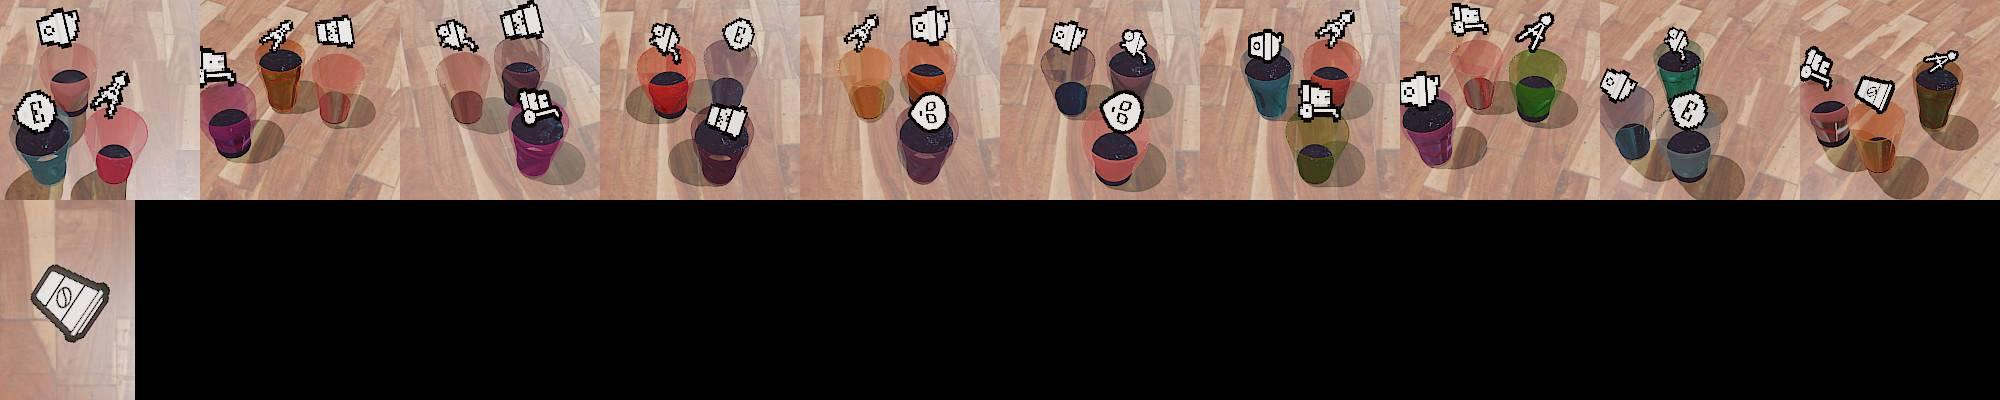icon: (29, 262, 111, 343), (1101, 89, 1145, 135), (13, 89, 59, 134), (907, 90, 952, 135), (89, 70, 129, 120), (36, 6, 80, 48), (499, 0, 545, 41), (909, 5, 953, 45), (1853, 74, 1897, 113), (1296, 80, 1337, 121), (1515, 11, 1555, 54), (1668, 90, 1709, 130), (707, 101, 749, 139), (518, 88, 561, 125), (1402, 71, 1443, 110), (200, 46, 237, 88), (1798, 45, 1834, 88), (435, 19, 480, 54), (843, 13, 879, 54), (1449, 3, 1489, 38), (1048, 19, 1088, 55), (649, 20, 684, 61), (1599, 68, 1638, 103), (1247, 28, 1286, 64), (315, 15, 356, 48), (1320, 9, 1356, 46), (722, 18, 756, 52), (1661, 27, 1689, 59), (1120, 28, 1148, 59), (264, 19, 295, 47), (1926, 51, 1959, 74)
